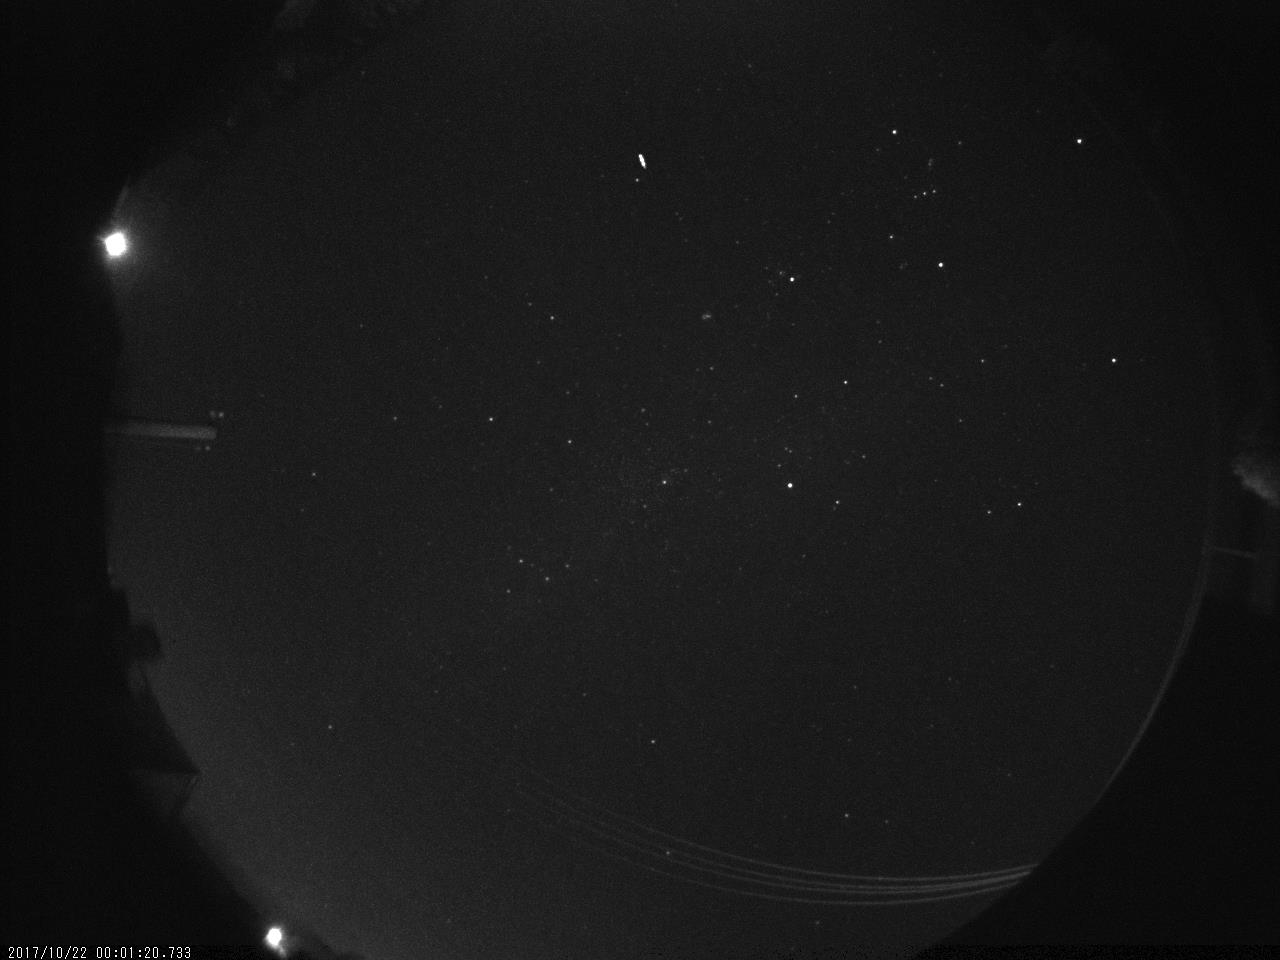meteor: (634, 149, 651, 172)
